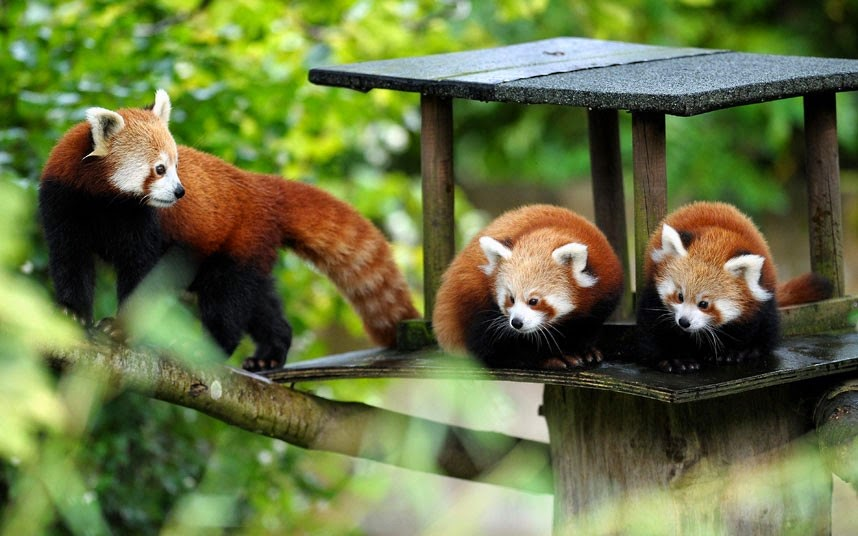red_panda: (39, 100, 417, 377), (429, 191, 622, 380), (639, 199, 824, 384)
